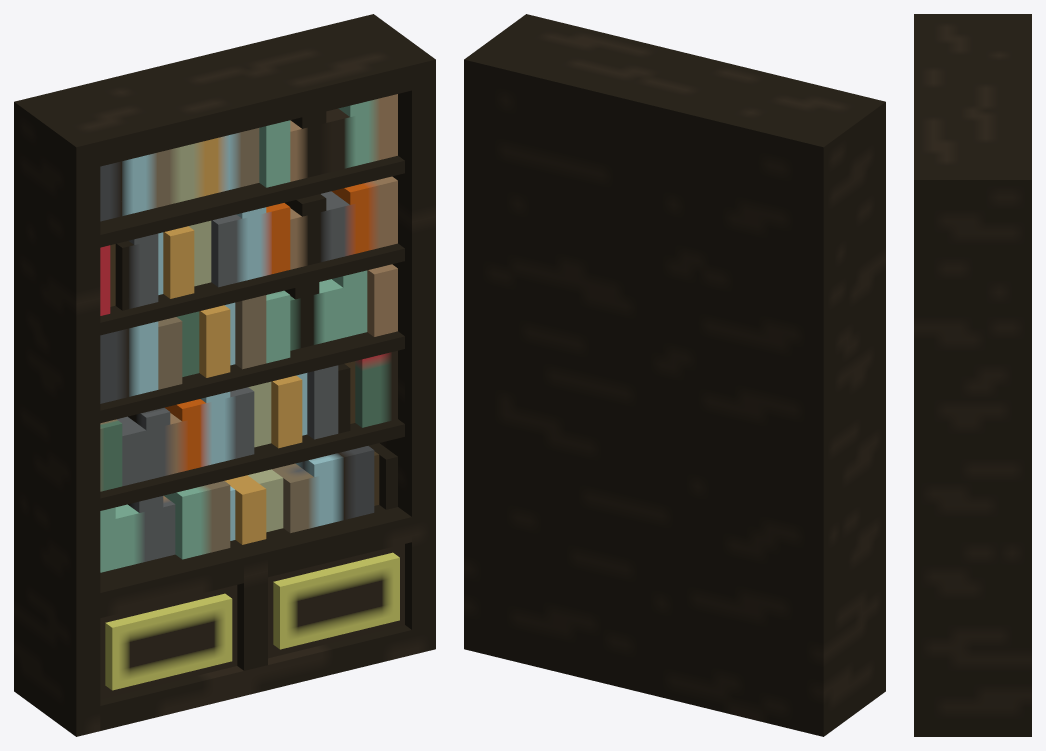
Rendered from Captain_Bookshelf_00.fbx.
3 views of the same model, side by side, from view 1: azimuth 30°, elevation 25°; view 2: azimuth 150°, elevation 25°; view 3: azimuth 270°, elevation 25° (orthographic). The views are drawn at different scales.
Visible parts, largest first — view 1: Captain_Bookshelf_00; view 2: Captain_Bookshelf_00; view 3: Captain_Bookshelf_00.
Boxes of the visible parts, <box> form: Captain_Bookshelf_00: <box>14,14,435,736</box>; Captain_Bookshelf_00: <box>464,14,885,736</box>; Captain_Bookshelf_00: <box>914,14,1031,736</box>.
Size of the model in its own units: 150 by 235 by 45.
